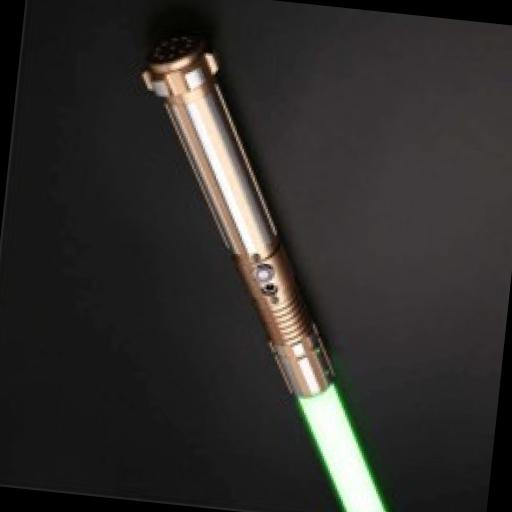lightsaber: (102, 23, 448, 512)
